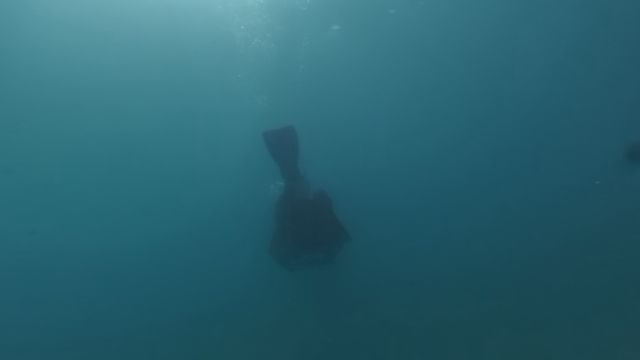Diver: (253, 118, 360, 276)
